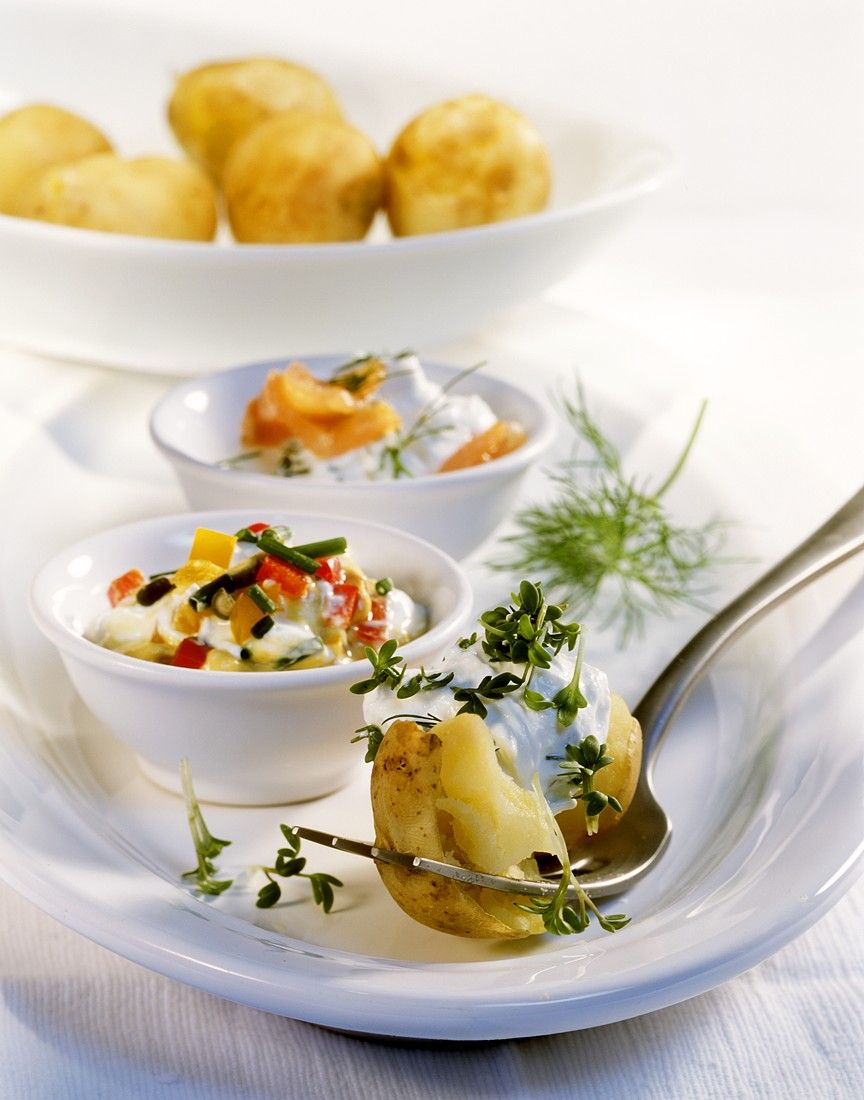boiled potatoes: (1, 93, 571, 241), (378, 703, 638, 943)
